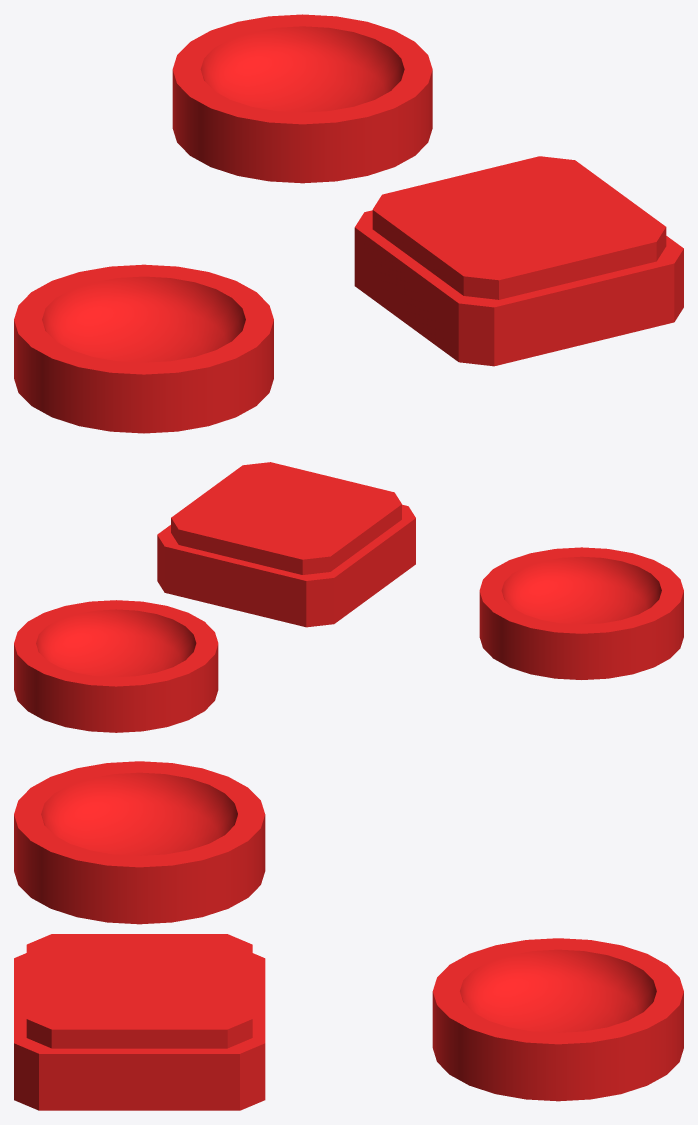
The model's file is Splitter_2.obj.
The picture shows the model from 3 angles, top to bottom: view 1: azimuth 30°, elevation 25°; view 2: azimuth 150°, elevation 25°; view 3: azimuth 270°, elevation 25°; orthographic projection. The views are drawn at different scales.
Parts seen in each view (by area): view 1: Handle, Output1, Output2; view 2: Handle, Output1, Output2; view 3: Handle, Output1, Output2.
Part boxes in pixels (bbox=[...]): Handle: bbox=[354, 156, 683, 366]; Output1: bbox=[172, 14, 432, 183]; Output2: bbox=[14, 264, 273, 433]; Handle: bbox=[157, 462, 415, 627]; Output1: bbox=[14, 600, 218, 732]; Output2: bbox=[479, 547, 683, 679]; Handle: bbox=[14, 934, 265, 1110]; Output1: bbox=[432, 938, 683, 1101]; Output2: bbox=[14, 761, 265, 924].
Bounding box in the file's own units: 1.6 × 0.2 × 1.6.
